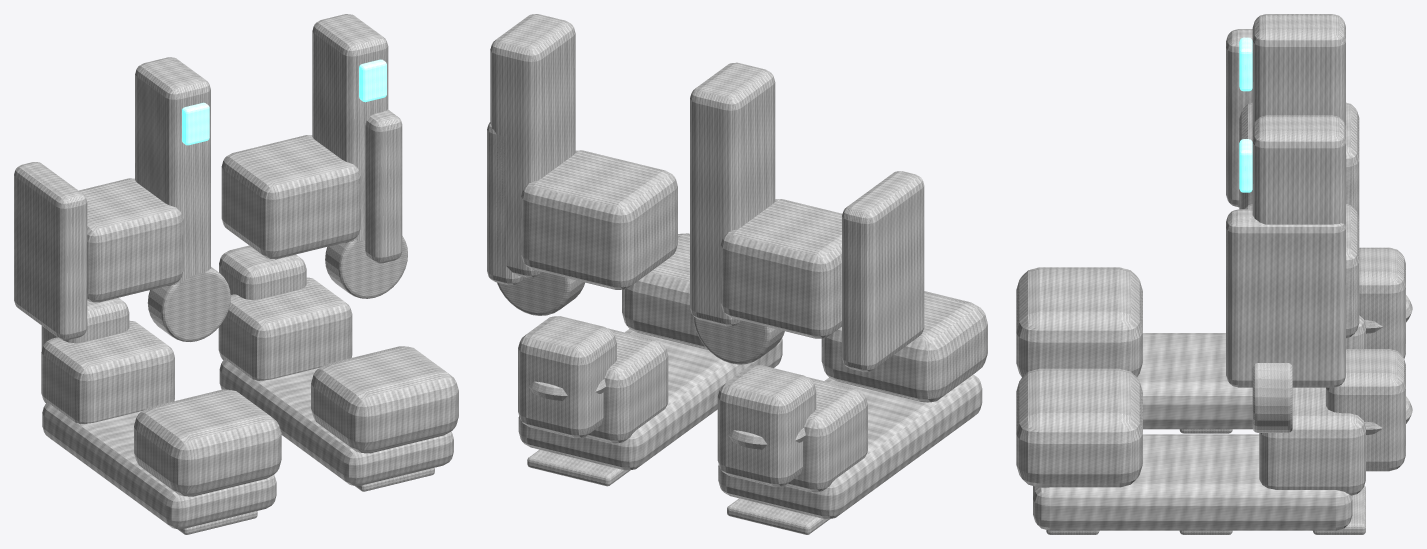
Rendered from blade_runners_variant_d.glb.
3 views of the same model, side by side, from view 1: azimuth 30°, elevation 25°; view 2: azimuth 150°, elevation 25°; view 3: azimuth 270°, elevation 25° (orthographic). The views are drawn at different scales.
Parts seen in each view (by area): view 1: Ankle cuff, Toe armor.007, Toe armor.006, Outer ankle guard, Outer shin module, Heel block.006, Heel block.007, Ankle cuff.007, Boot sole.007, Boot sole, Outer shin module.001, Outer ankle guard.001 (+8 smaller); view 2: Ankle cuff, Outer shin module, Outer ankle guard, Ankle cuff.007, Outer shin module.001, Boot sole.007, Toe armor.006, Replaceable heel damper, Replaceable heel damper.001, Boot sole, Heel block.007, Heel block.006 (+8 smaller); view 3: Boot sole, Outer ankle guard.001, Toe armor.007, Toe armor.006, Outer shin module.001, Outer shin module, Boot sole.007, Heel block.007, Replaceable heel damper.001, Replaceable heel damper, Pivot joint.001, Outer ankle guard (+5 smaller).
Part boxes in pixels (box(x1,y1,x2,y2)): Ankle cuff: box(221, 135, 360, 259); Toe armor.007: box(311, 346, 458, 453); Toe armor.006: box(134, 389, 281, 496); Outer ankle guard: box(14, 162, 87, 340); Outer shin module: box(135, 57, 210, 285); Heel block.006: box(41, 320, 174, 424); Heel block.007: box(218, 277, 352, 380); Ankle cuff.007: box(79, 178, 183, 302); Boot sole.007: box(42, 403, 276, 529); Boot sole: box(219, 357, 453, 485); Outer shin module.001: box(312, 14, 388, 242); Outer ankle guard.001: box(365, 109, 402, 263); Ankle cuff: box(521, 150, 677, 289); Outer shin module: box(690, 62, 775, 326); Outer ankle guard: box(842, 171, 924, 371); Ankle cuff.007: box(720, 199, 842, 338); Outer shin module.001: box(490, 14, 575, 277); Boot sole.007: box(718, 374, 982, 518); Toe armor.006: box(821, 291, 987, 402); Replaceable heel damper: box(717, 365, 816, 486); Replaceable heel damper.001: box(518, 316, 616, 437); Boot sole: box(518, 329, 782, 470); Heel block.007: box(586, 328, 668, 443); Heel block.006: box(785, 377, 867, 491); Boot sole: box(1033, 434, 1352, 530); Outer ankle guard.001: box(1226, 209, 1345, 387); Toe armor.007: box(1016, 368, 1142, 487); Toe armor.006: box(1016, 267, 1142, 376); Outer shin module.001: box(1252, 115, 1345, 225); Outer shin module: box(1252, 14, 1345, 128); Boot sole.007: box(1137, 333, 1252, 429); Heel block.007: box(1259, 387, 1365, 495); Replaceable heel damper.001: box(1326, 349, 1405, 471); Replaceable heel damper: box(1359, 247, 1405, 358); Pivot joint.001: box(1252, 363, 1292, 432); Outer ankle guard: box(1226, 29, 1252, 207).
Size of what is drawn, in the model's own units: 0.73 by 0.704 by 0.595.
Materials: 7 (7 with a texture image).
